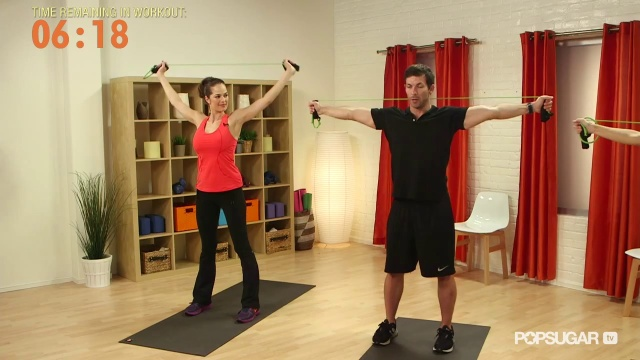person: (305, 63, 545, 352), (178, 75, 266, 323)
